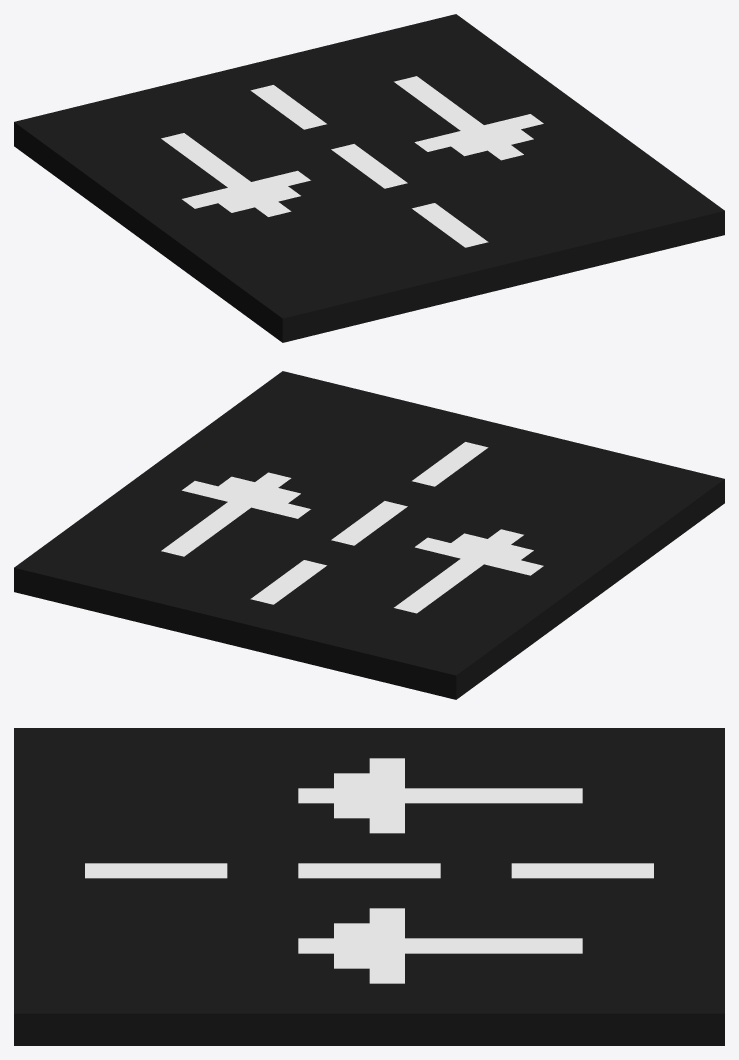
The model's file is ConstructionMaterials-66.obj.
The picture shows the model from 3 angles, top to bottom: view 1: azimuth 30°, elevation 25°; view 2: azimuth 150°, elevation 25°; view 3: azimuth 270°, elevation 25°; orthographic projection. The views are drawn at different scales.
Size of the model in its own units: 1.9 by 0.1 by 2.
1 material, 1 textured.
